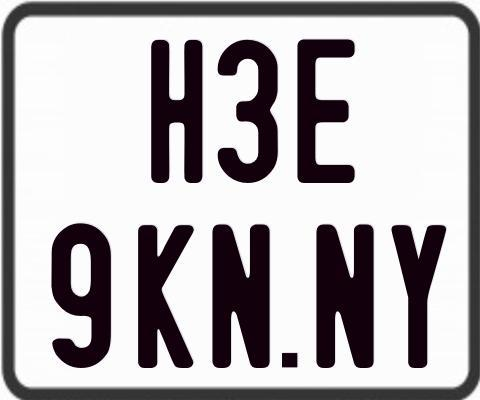3: (217, 39, 280, 187)
9: (49, 223, 113, 370)
E: (294, 37, 352, 185)
H: (151, 39, 208, 187)
K: (138, 224, 198, 369)
N: (209, 221, 273, 366), (314, 222, 378, 367)
Y: (389, 224, 445, 373)
